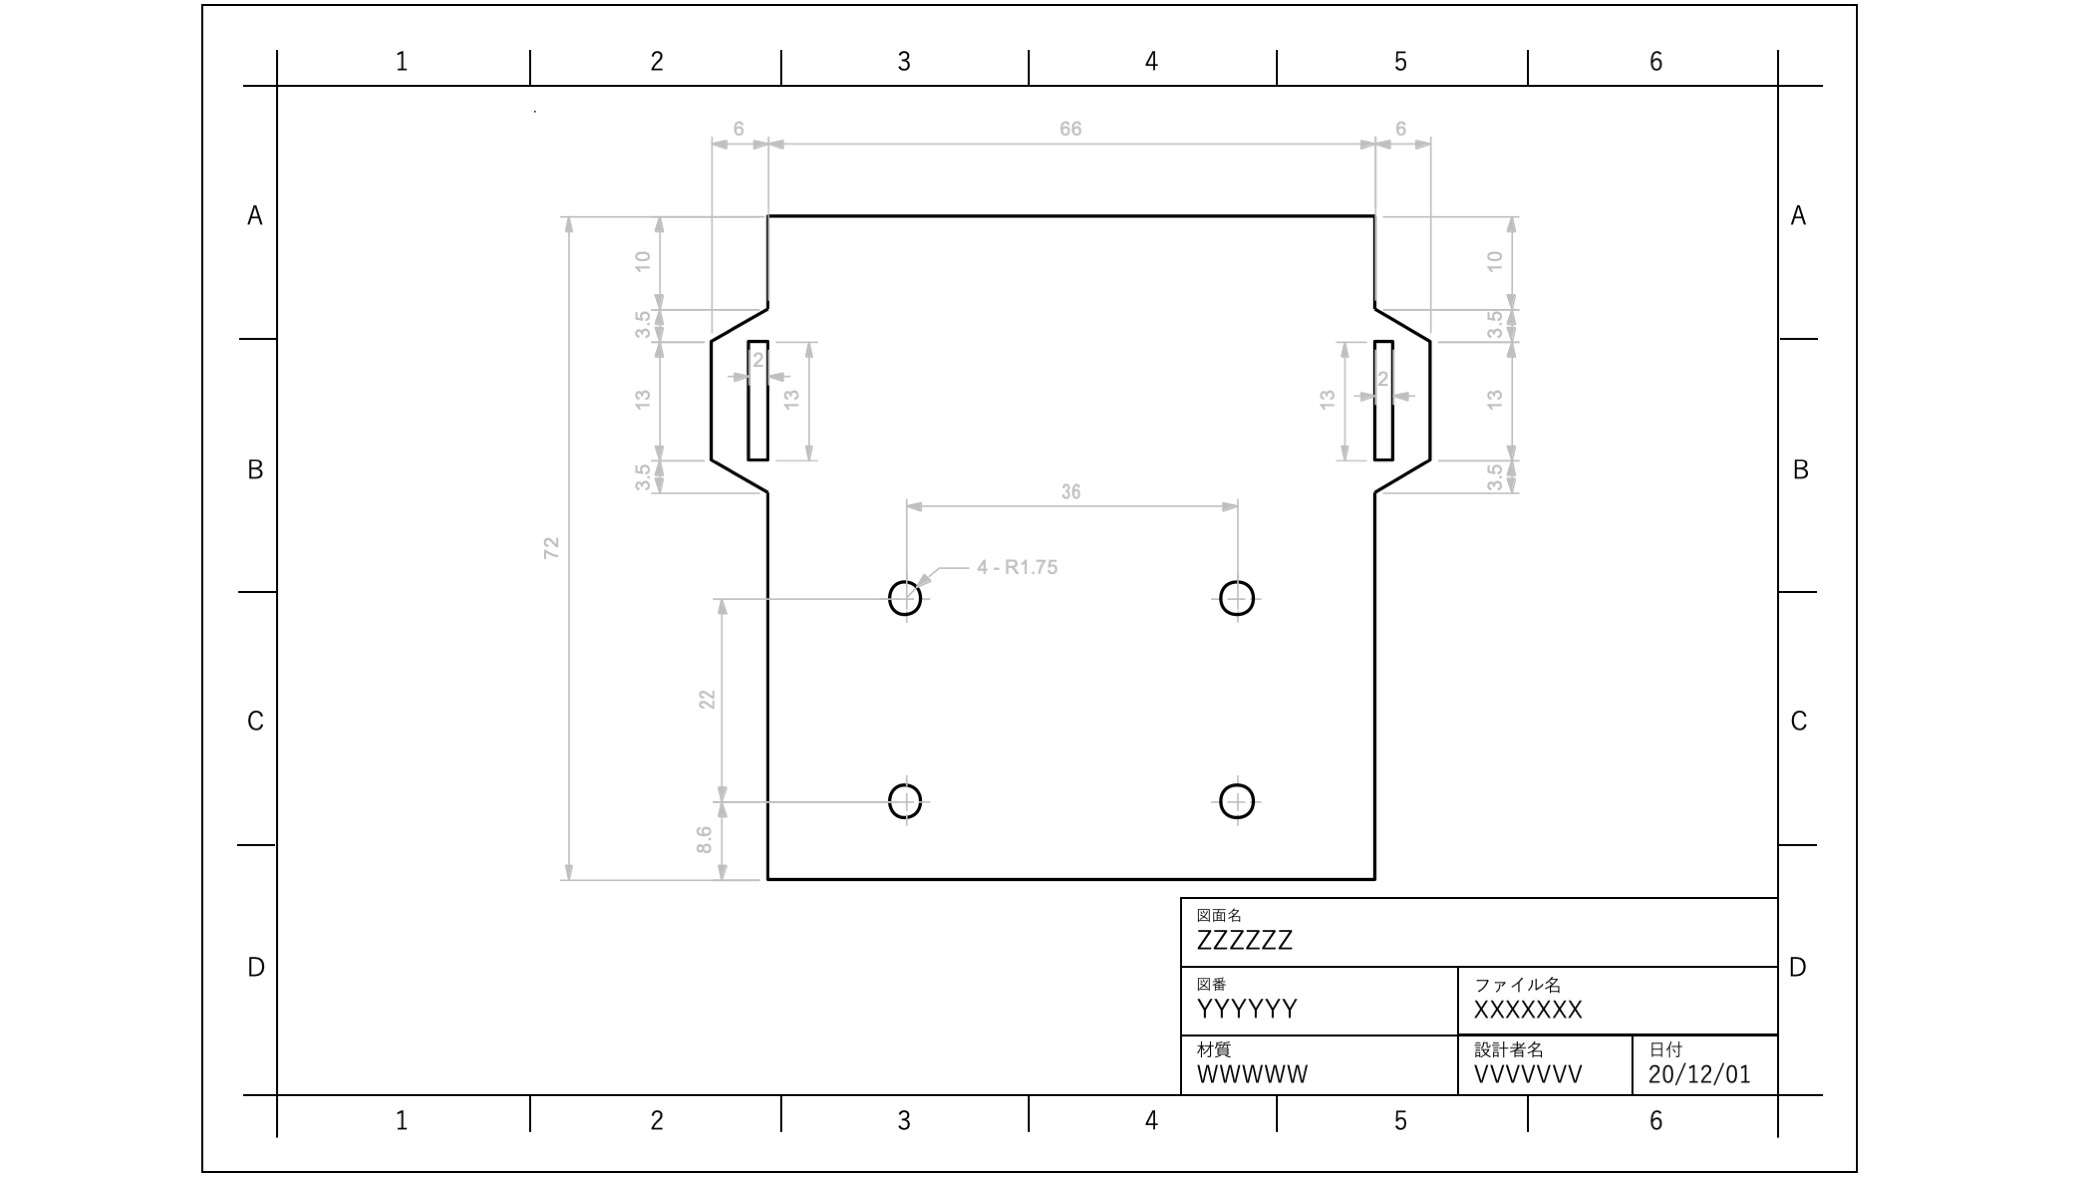circle: (1214, 771, 1268, 828), (884, 572, 930, 624), (1214, 575, 1262, 624), (884, 774, 932, 823)
rectangle: (1359, 329, 1409, 469), (736, 319, 777, 470)
